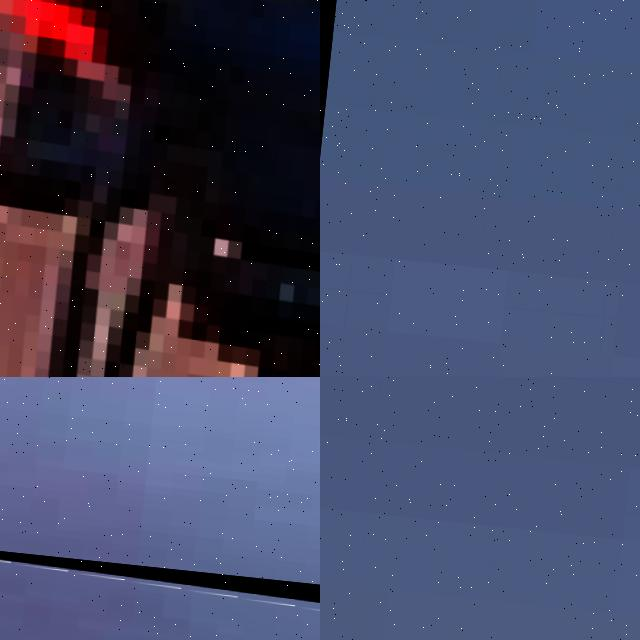drone: (0, 0, 320, 377), (0, 521, 320, 640)
